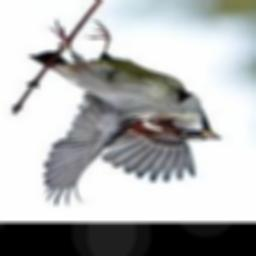Sparrow: (29, 20, 222, 207)
